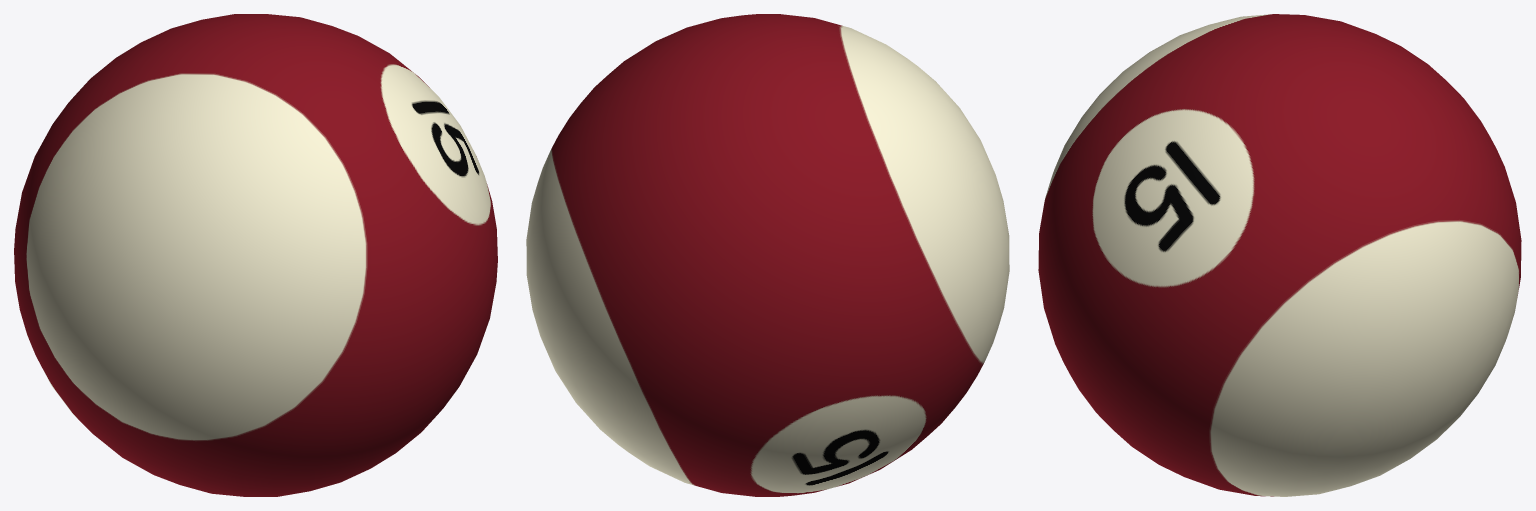
The model's file is bola12.obj.
3 renders of one model, left to right at view 1: azimuth 30°, elevation 25°; view 2: azimuth 150°, elevation 25°; view 3: azimuth 270°, elevation 25°, orthographic.
Visible parts, largest first — view 1: 15_Ball; view 2: 15_Ball; view 3: 15_Ball.
Boxes of the visible parts, x1=… form: 15_Ball: x1=14, y1=14, x2=497, y2=496; 15_Ball: x1=526, y1=14, x2=1009, y2=496; 15_Ball: x1=1038, y1=14, x2=1521, y2=496.
Bounding box in the file's own units: 0.051 × 0.0509 × 0.0509.
Materials: 1 (1 with a texture image).
